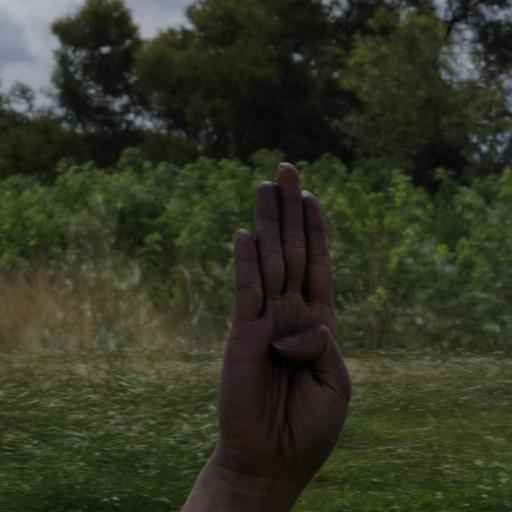B: (208, 158, 362, 471)
